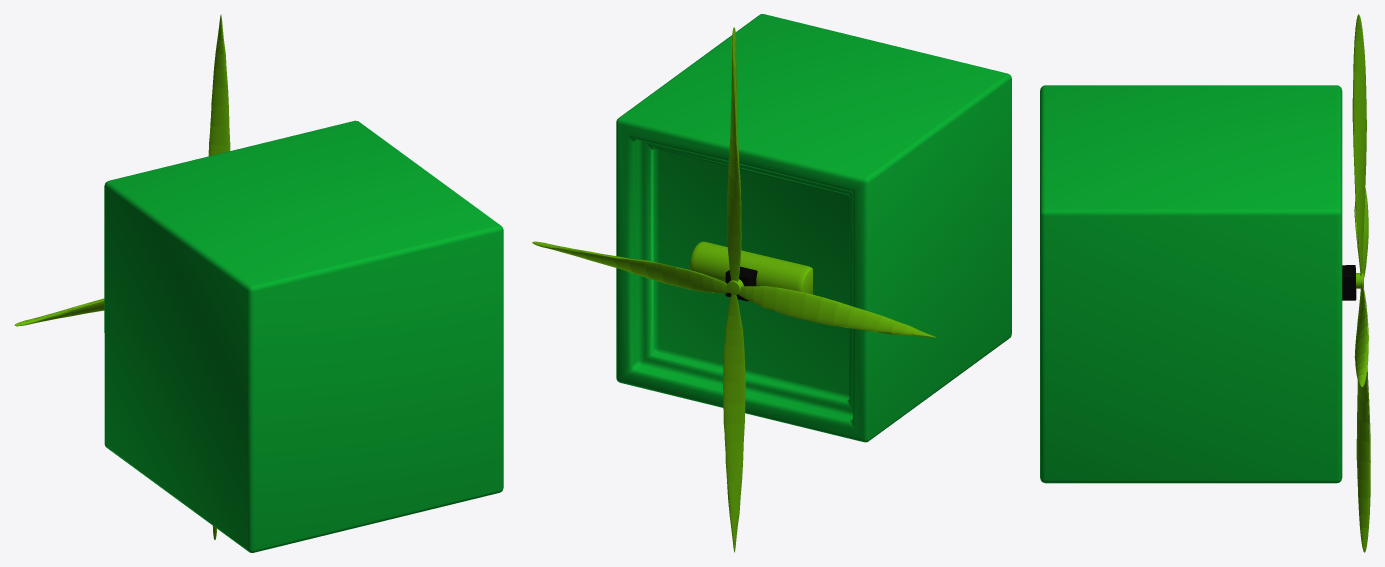
Rendered from kipas angin.fbx.
The picture shows the model from 3 angles, left to right: view 1: azimuth 30°, elevation 25°; view 2: azimuth 150°, elevation 25°; view 3: azimuth 270°, elevation 25°; orthographic projection. The views are drawn at different scales.
Parts seen in each view (by area): view 1: Cube.016, Cylinder.008; view 2: Cube.016, Cylinder.008, Cylinder.007; view 3: Cube.016, Cylinder.008, Cylinder.006.
Part boxes in pixels (left/top/right/bottom): Cube.016: left=104, top=120, right=503, bottom=552; Cylinder.008: left=14, top=14, right=230, bottom=539; Cube.016: left=616, top=14, right=1011, bottom=442; Cylinder.008: left=532, top=27, right=935, bottom=552; Cylinder.007: left=690, top=241, right=812, bottom=294; Cube.016: left=1040, top=85, right=1342, bottom=483; Cylinder.008: left=1352, top=14, right=1370, bottom=552; Cylinder.006: left=1342, top=265, right=1356, bottom=300.
Bounding box in the file's own units: 319 × 395 × 219.
